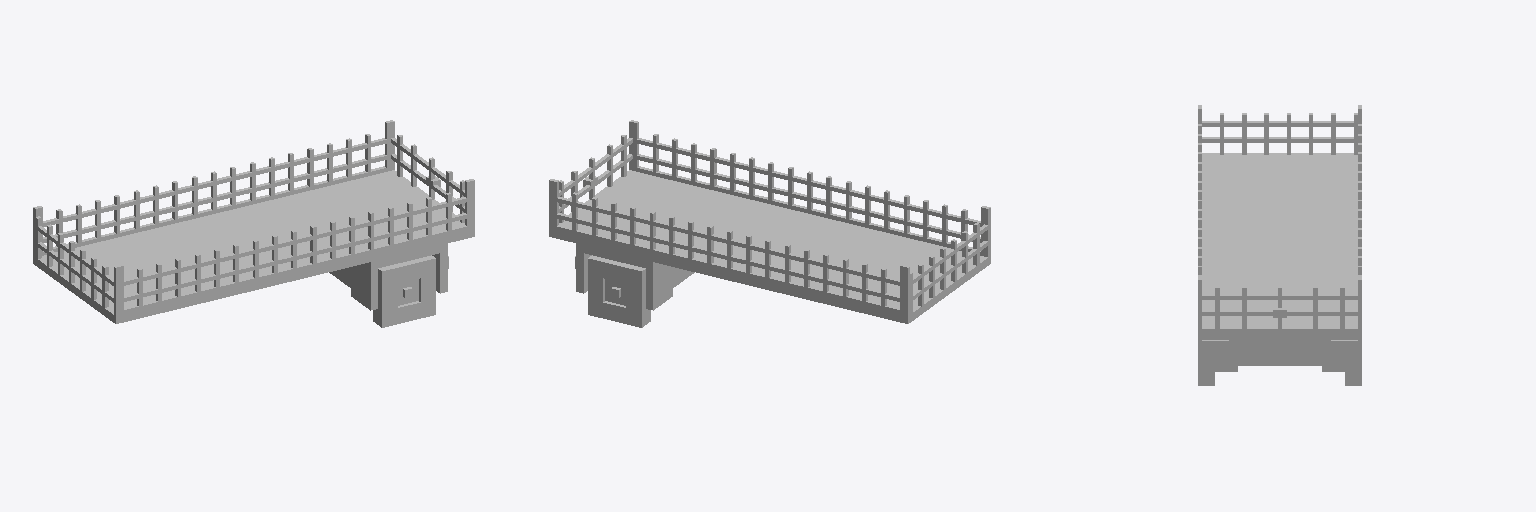
The model's file is alll cars3-120.obj.
3 views of the same model, side by side, from view 1: azimuth 30°, elevation 25°; view 2: azimuth 150°, elevation 25°; view 3: azimuth 270°, elevation 25° (orthographic).
Visible parts, largest first — view 1: object 1; view 2: object 1; view 3: object 1.
Boxes of the visible parts, box(x1,y1,x2,y2) form: object 1: box(33, 120, 474, 327); object 1: box(549, 120, 990, 327); object 1: box(1198, 105, 1361, 385).
Size of the model in its own units: 9.4 by 3.1 by 3.7.